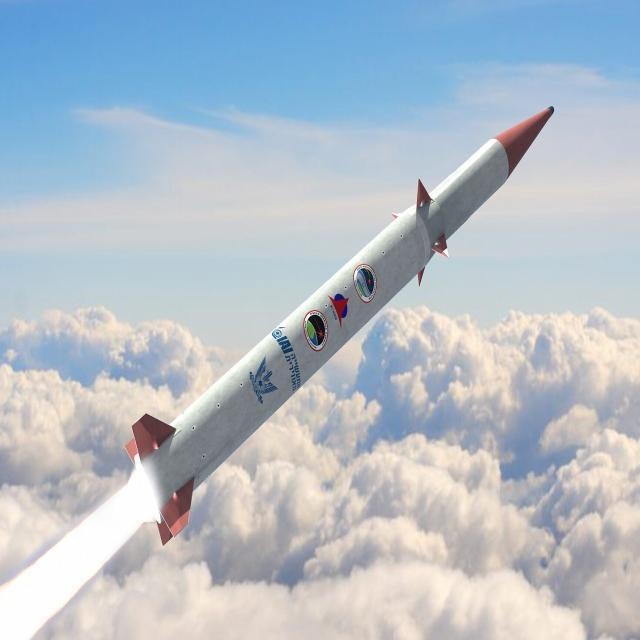missile: (113, 97, 557, 541)
